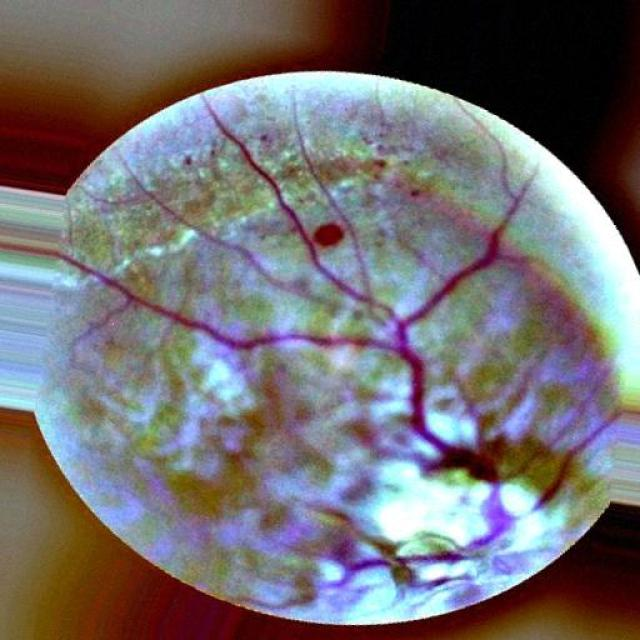Macula: (315, 224, 347, 245)
Nerves: (121, 295, 509, 584)
Optic Disk: (330, 453, 571, 630)
